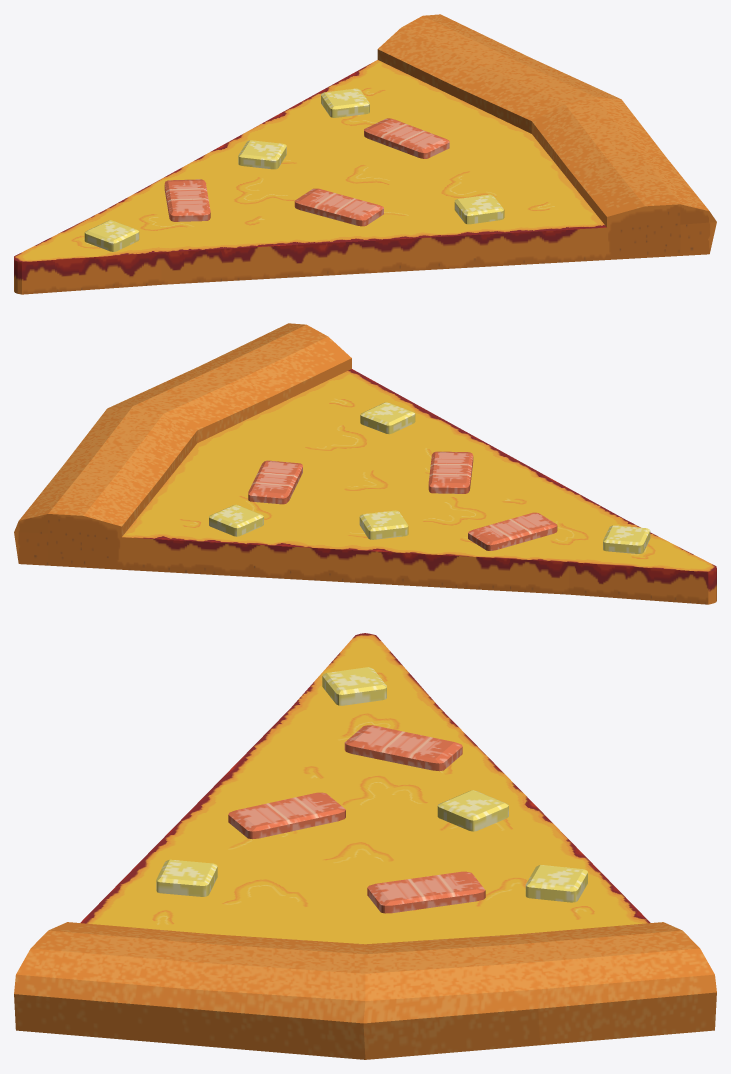
The model's file is Pizza_CheeseNHam.fbx.
3 views of the same model, one above another, from view 1: azimuth 30°, elevation 25°; view 2: azimuth 150°, elevation 25°; view 3: azimuth 270°, elevation 25° (orthographic). The views are drawn at different scales.
Parts seen in each view (by area): view 1: Pice_4, Pice_3, Pice_2, Pice_1, Ham_2, Ham_3, Ham_1, Cheese_1, Cheese_3, Cheese2, Cheese_4; view 2: Pice_4, Pice_3, Pice_2, Pice_1, Ham_1, Ham_3, Ham_2, Cheese_3, Cheese_4, Cheese2, Cheese_1; view 3: Pice_4, Pice_3, Pice_2, Pice_1, Ham_3, Ham_1, Ham_2, Cheese2, Cheese_1, Cheese_4, Cheese_3.
Boxes of the visible parts, left/top/right/bottom form: Pice_4: left=287, top=14, right=716, bottom=268; Pice_3: left=195, top=110, right=458, bottom=276; Pice_2: left=104, top=160, right=309, bottom=284; Pice_1: left=14, top=210, right=161, bottom=294; Ham_2: left=294, top=188, right=383, bottom=226; Ham_3: left=364, top=118, right=449, bottom=158; Ham_1: left=164, top=179, right=210, bottom=221; Cheese_1: left=84, top=220, right=139, bottom=251; Cheese_3: left=454, top=194, right=504, bottom=224; Cheese2: left=238, top=140, right=286, bottom=169; Cheese_4: left=321, top=88, right=369, bottom=117; Pice_4: left=14, top=323, right=442, bottom=577; Pice_3: left=271, top=419, right=534, bottom=586; Pice_2: left=420, top=469, right=625, bottom=594; Pice_1: left=569, top=520, right=716, bottom=604; Ham_1: left=468, top=512, right=557, bottom=550; Ham_3: left=248, top=460, right=302, bottom=504; Ham_2: left=428, top=451, right=473, bottom=493; Cheese_3: left=360, top=402, right=415, bottom=434; Cheese_4: left=209, top=504, right=263, bottom=536; Cheese2: left=359, top=510, right=408, bottom=539; Cheese_1: left=603, top=525, right=650, bottom=553; Pice_4: left=14, top=860, right=716, bottom=1059; Pice_3: left=142, top=784, right=588, bottom=878; Pice_2: left=216, top=708, right=513, bottom=796; Pice_1: left=291, top=633, right=439, bottom=713; Ham_3: left=367, top=871, right=485, bottom=913; Ham_1: left=344, top=725, right=462, bottom=771; Ham_2: left=228, top=792, right=345, bottom=839; Cheese2: left=437, top=790, right=508, bottom=831; Cheese_1: left=322, top=667, right=386, bottom=705; Cheese_4: left=525, top=864, right=587, bottom=902; Cheese_3: left=156, top=859, right=217, bottom=896.
Bounding box in the file's own units: 18.14 × 1.52 × 13.85.
